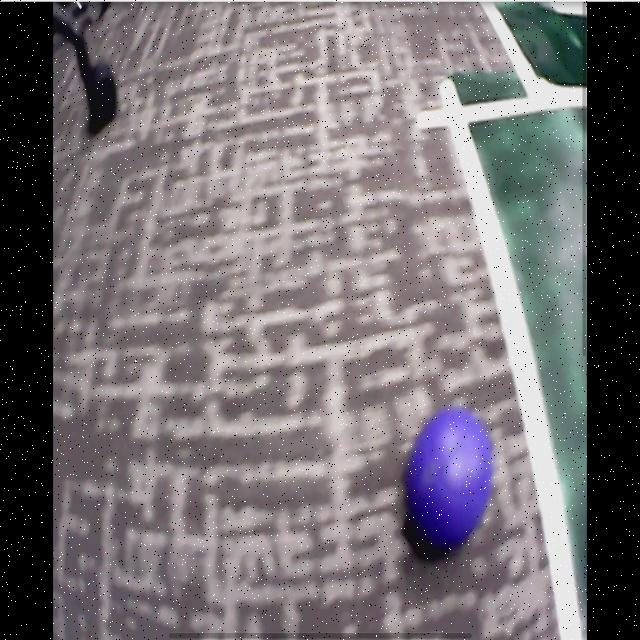ball: (404, 407, 494, 549)
